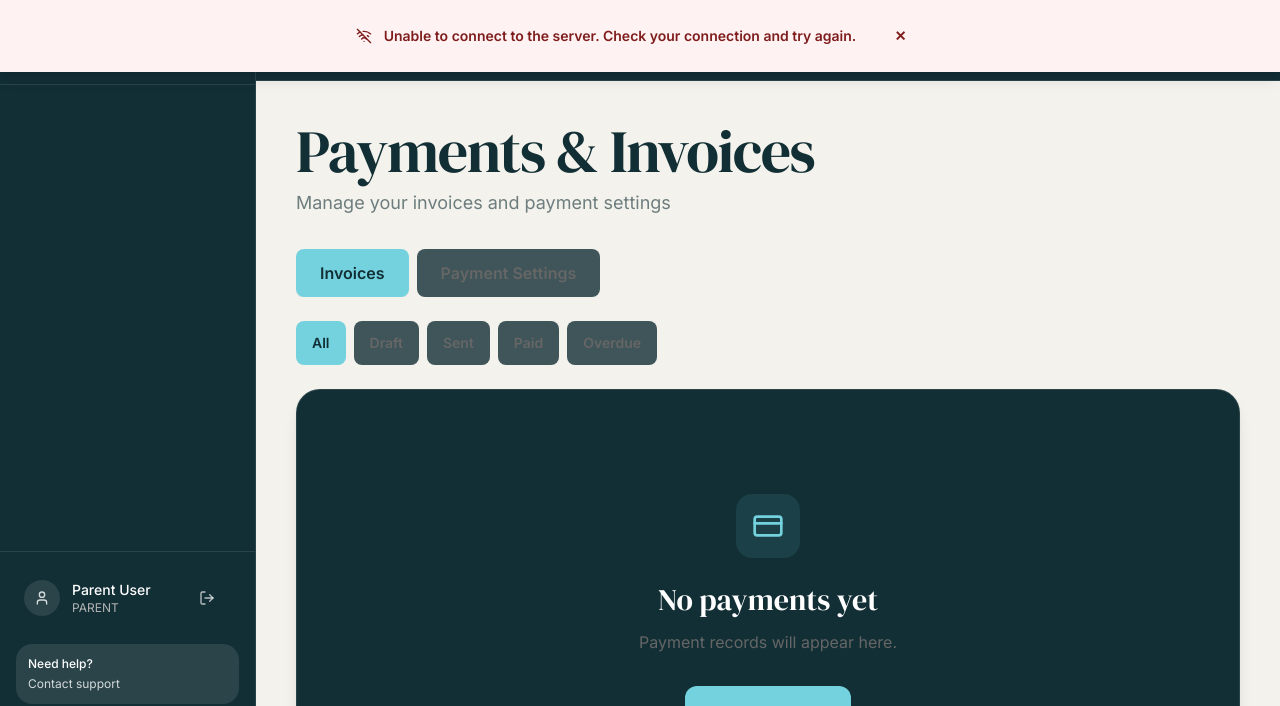
Payments page settings tab without a payment provider › shows the informational state instead of setup when payment_provider is null
Click the button "Payment Settings" at {"x": 508, "y": 273}, box [417,249,600,297]
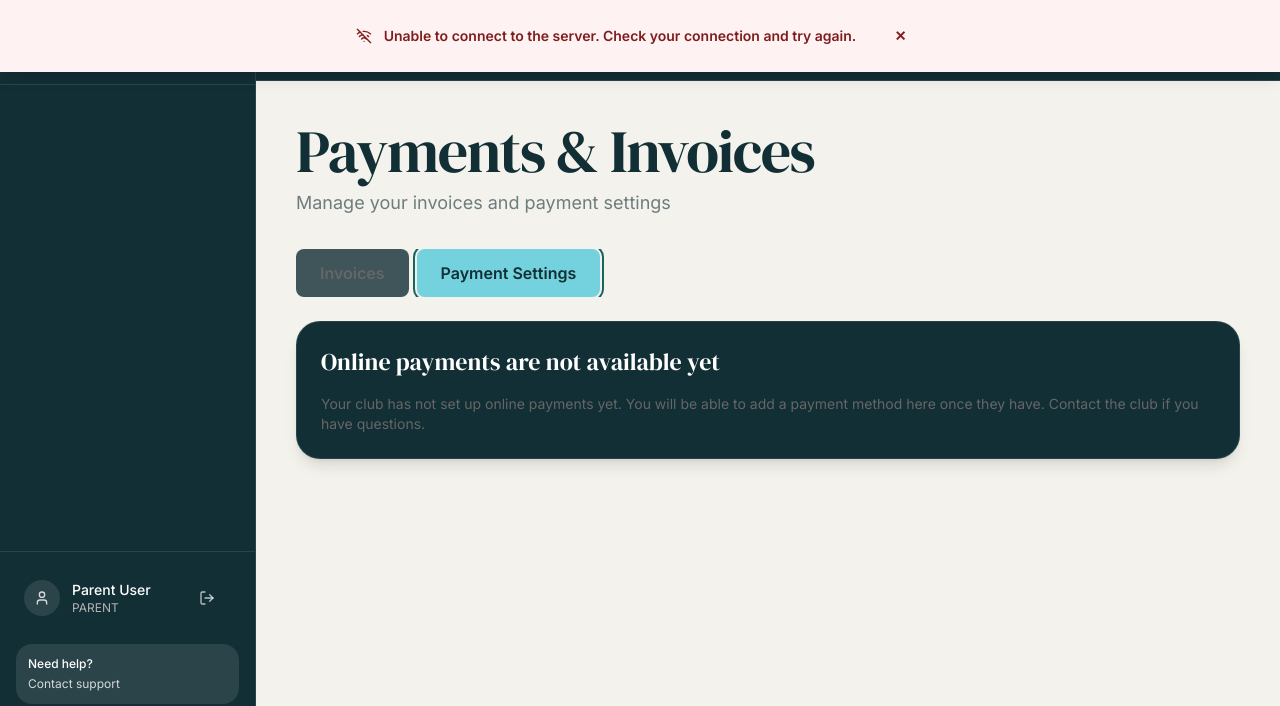
Expected: the text "Your club has not set up online payments yet. You will be able to add a payment method here once they have. Contact the " is shown, [321,395,1199,432]
Expected: the heading "Online payments are not available yet" is shown, [321,345,720,378]
